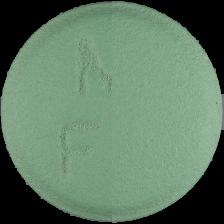0378-3040: (0, 0, 224, 224)
